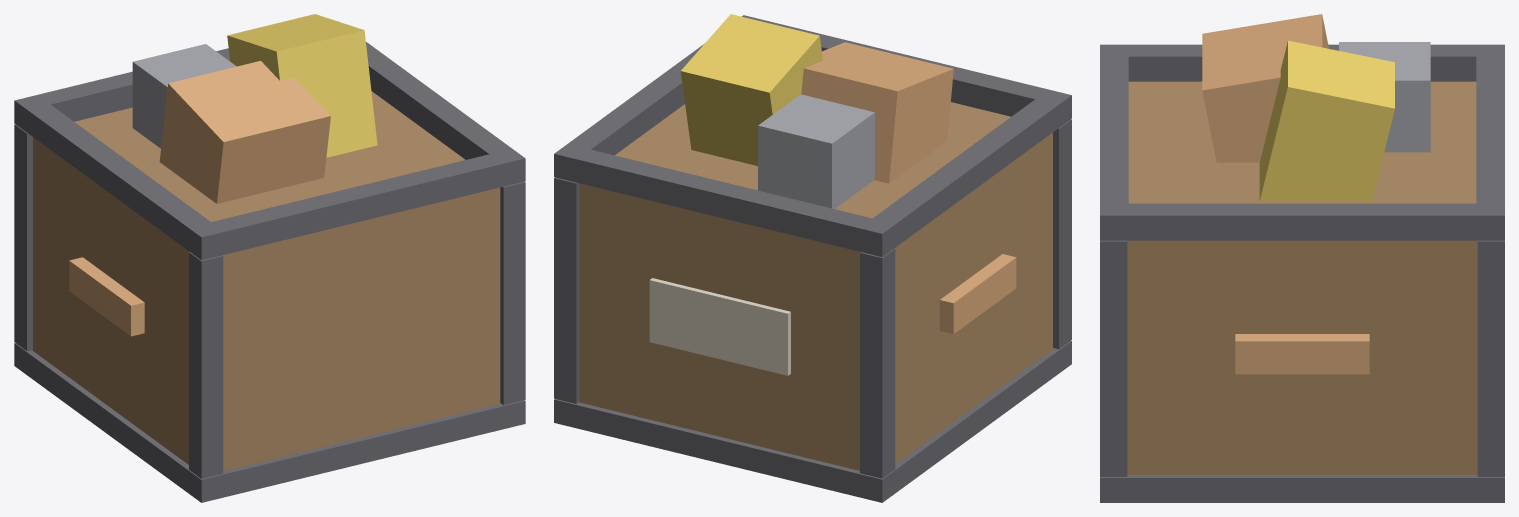
Rendered from cargo_crate.glb.
3 views of the same model, side by side, from view 1: azimuth 30°, elevation 25°; view 2: azimuth 150°, elevation 25°; view 3: azimuth 270°, elevation 25° (orthographic). The views are drawn at different scales.
Visible parts, largest first — view 1: CargoCrate; view 2: CargoCrate; view 3: CargoCrate.
Part boxes in pixels (x1,y1,x2,y2): CargoCrate: (14,14,525,502); CargoCrate: (554,14,1071,502); CargoCrate: (1100,14,1504,502).
Size of the model in its own units: 0.696 by 0.682 by 0.664.
